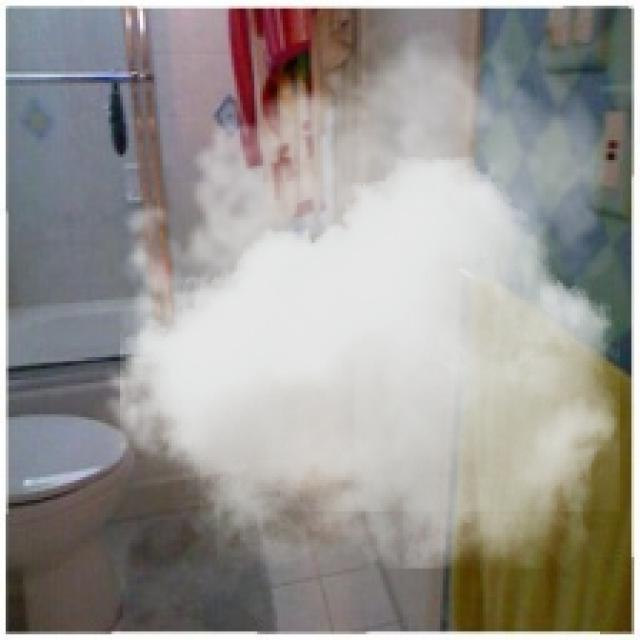Smoke: (89, 11, 620, 568)
